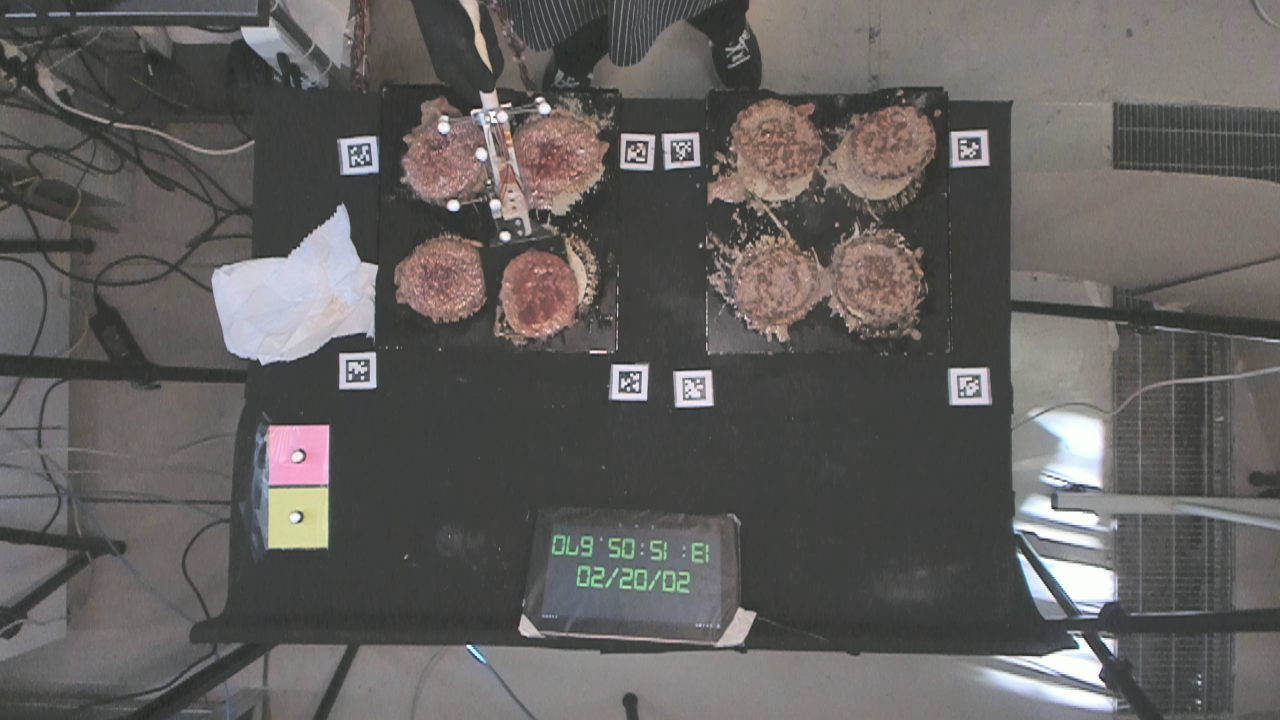hamburger: (839, 232, 916, 332), (734, 242, 814, 328), (399, 235, 480, 319), (520, 117, 603, 198), (847, 104, 935, 179), (736, 102, 821, 177), (502, 252, 574, 340), (418, 138, 468, 189)
marker: (268, 426, 331, 485)
